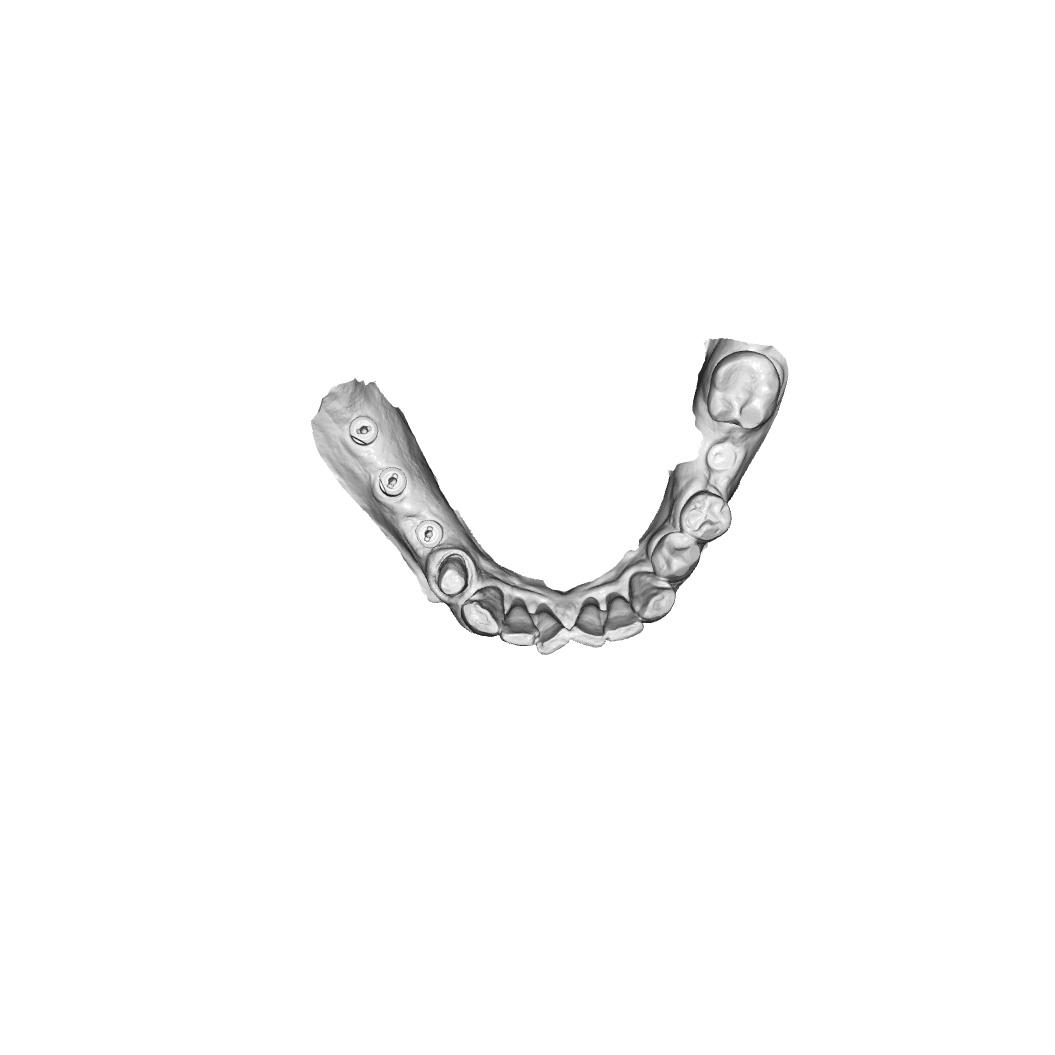canine: (629, 571, 678, 623), (459, 586, 506, 639)
crown: (434, 552, 473, 599)
implant_minus: (348, 415, 381, 449), (378, 464, 409, 498), (414, 517, 445, 550)
incisor: (603, 594, 644, 643), (570, 602, 612, 649), (534, 609, 572, 656), (500, 604, 540, 648)
molar: (707, 354, 786, 432)
premolar: (679, 490, 732, 543), (650, 532, 704, 582)
